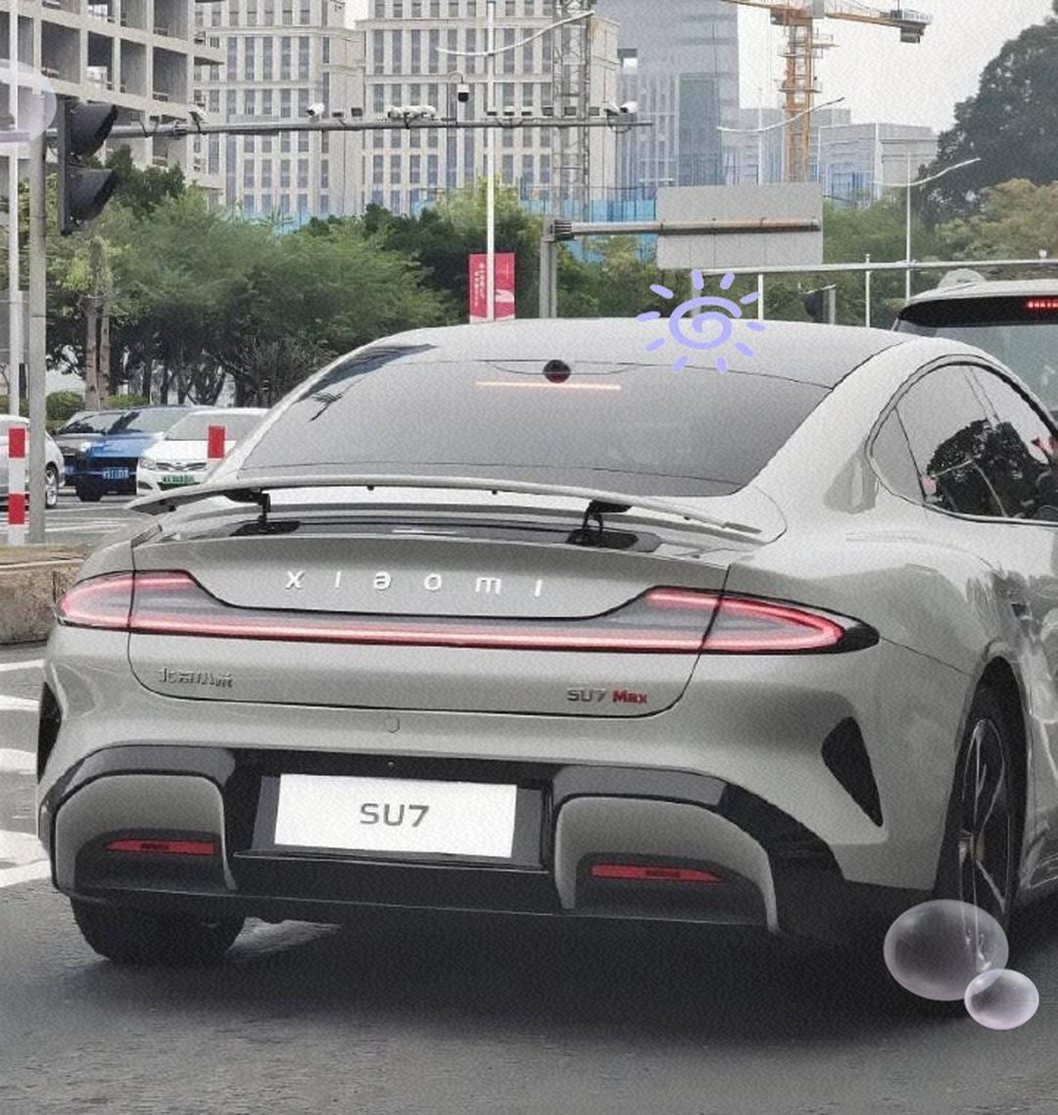other: (122, 397, 272, 493), (81, 404, 186, 503)
su7: (47, 306, 1058, 994)
